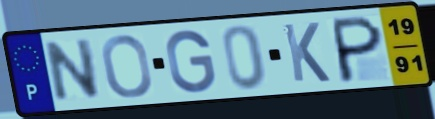0: (220, 22, 270, 92)
G: (164, 28, 219, 95)
K: (280, 21, 333, 85)
N: (44, 36, 103, 105)
O: (99, 33, 155, 100)
P: (332, 13, 386, 85)
